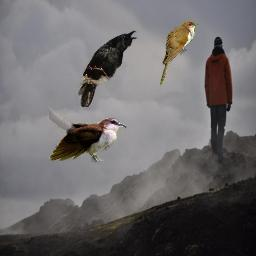Crow: (77, 29, 138, 107)
Cuckoo: (49, 88, 127, 164), (160, 20, 199, 86)
